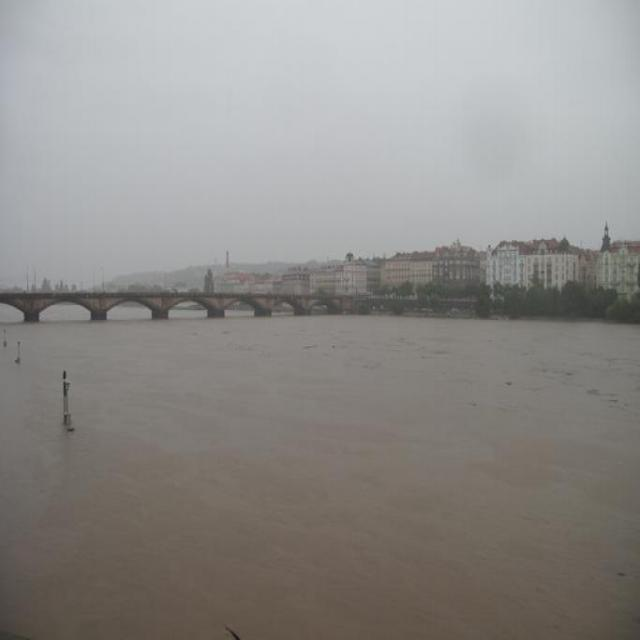flood: (0, 309, 640, 640)
